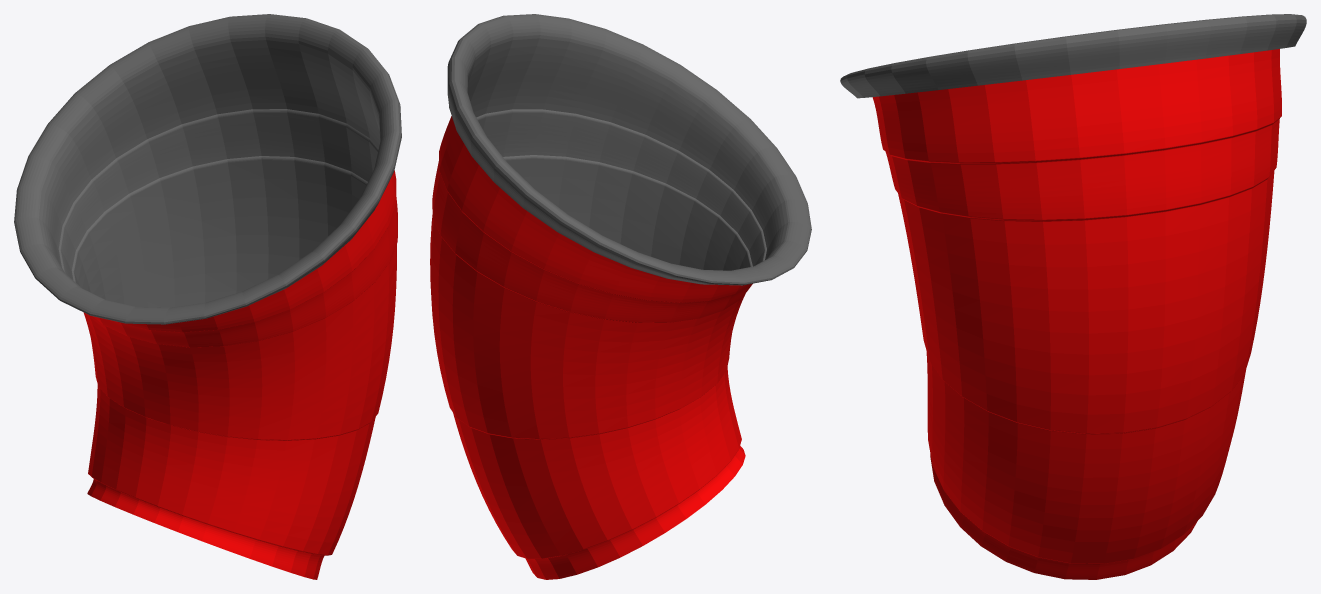
File: bend_medium_0.obj
The picture shows the model from 3 angles, left to right: view 1: azimuth 30°, elevation 25°; view 2: azimuth 150°, elevation 25°; view 3: azimuth 270°, elevation 25°; orthographic projection. The views are drawn at different scales.
Parts seen in each view (by area): view 1: model; view 2: model; view 3: model.
Part boxes in pixels (x1,y1,x2,y2): model: (14,14,401,579); model: (430,14,811,579); model: (840,14,1306,579).
Size of the model in its own units: 0.0903 by 0.1325 by 0.0955.
1 material, 1 textured.
